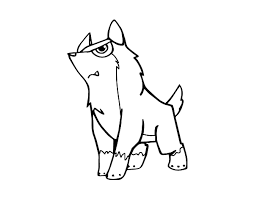Lobo: (60, 12, 197, 188)
